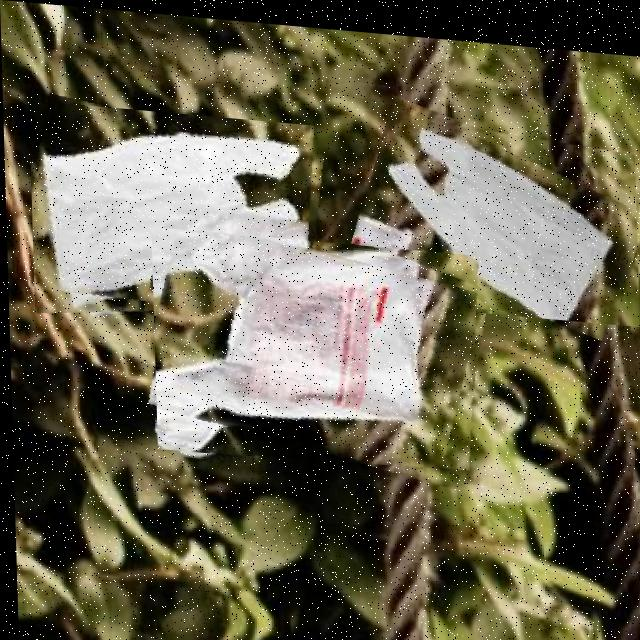litter: (150, 224, 483, 470), (28, 100, 321, 335), (356, 103, 638, 315)
